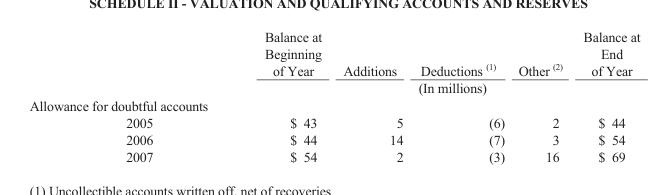table: (28, 28, 639, 163)
table column: (28, 28, 208, 163), (208, 28, 331, 163), (411, 28, 510, 163), (331, 28, 411, 163), (572, 28, 639, 163), (510, 28, 572, 163)
table column header: (28, 28, 639, 96)
table projected row header: (28, 96, 639, 113)
table row: (28, 28, 639, 79), (28, 79, 639, 96), (28, 96, 639, 113), (28, 113, 639, 130), (28, 130, 639, 147), (28, 147, 639, 163)
table spanning cell: (208, 79, 639, 96)
